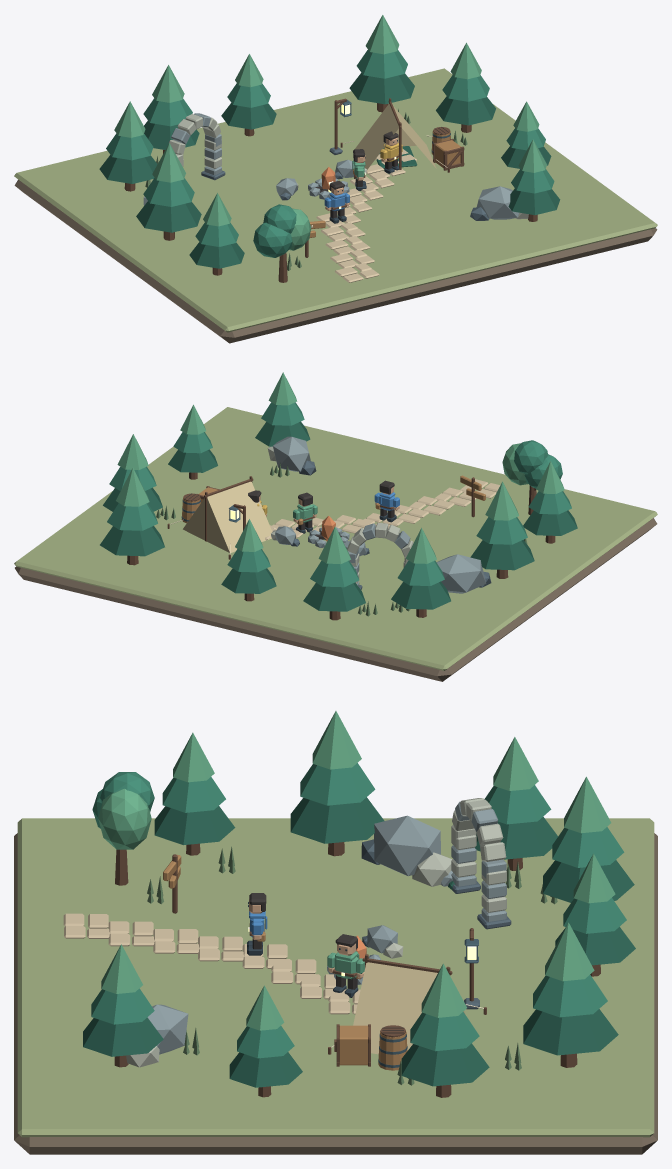
The model's file is forest-camp.glb.
3 renders of one model, top to bottom at view 1: azimuth 30°, elevation 25°; view 2: azimuth 150°, elevation 25°; view 3: azimuth 270°, elevation 25°, orthographic. The views are drawn at different scales.
Parts seen in each view (by area): view 1: terrain-top, terrain-stratum, tent-cloth.001, pine-crown.006, pine-crown.018, pine-crown.021, pine-crown.009, pine-crown.019, pine-crown.007, pine-crown.003, pine-crown.015, pine-crown.027 (+21 smaller); view 2: terrain-top, terrain-stratum, tent-cloth.001, pine-crown.018, rock.009, pine-crown.006, pine-crown.012, pine-crown.009, pine-crown.007, pine-crown.019, pine-crown.015, pine-crown.003 (+22 smaller); view 3: terrain-top, terrain-stratum, tent-cloth.001, pine-crown.018, pine-crown.006, rock.009, pine-crown.021, canopy.004, pine-crown.007, pine-crown.019, pine-crown.003, pine-crown.027 (+26 smaller).
Part boxes in pixels (x1=…): terrain-top: x1=14, y1=68, x2=657, y2=332; terrain-stratum: x1=14, y1=179, x2=657, y2=343; tent-cloth.001: x1=355, y1=104, x2=436, y2=169; pine-crown.006: x1=136, y1=201, x2=201, y2=232; pine-crown.018: x1=349, y1=73, x2=414, y2=104; pine-crown.021: x1=436, y1=96, x2=495, y2=125; pine-crown.009: x1=99, y1=155, x2=157, y2=183; pine-crown.019: x1=356, y1=50, x2=407, y2=78; pine-crown.007: x1=143, y1=178, x2=194, y2=206; pine-crown.003: x1=189, y1=242, x2=244, y2=268; pine-crown.015: x1=221, y1=103, x2=276, y2=129; pine-crown.027: x1=508, y1=188, x2=560, y2=215; terrain-top: x1=14, y1=407, x2=657, y2=670; terrain-stratum: x1=15, y1=518, x2=657, y2=681; tent-cloth.001: x1=183, y1=481, x2=272, y2=552; pine-crown.018: x1=100, y1=526, x2=164, y2=556; rock.009: x1=436, y1=554, x2=486, y2=593; pine-crown.006: x1=470, y1=539, x2=534, y2=570; pine-crown.012: x1=303, y1=582, x2=365, y2=611; pine-crown.009: x1=391, y1=581, x2=450, y2=609; pine-crown.007: x1=476, y1=517, x2=527, y2=544; pine-crown.019: x1=107, y1=503, x2=157, y2=530; pine-crown.015: x1=221, y1=568, x2=276, y2=593; pine-crown.003: x1=523, y1=510, x2=577, y2=535; terrain-top: x1=17, y1=818, x2=654, y2=1137; terrain-stratum: x1=14, y1=833, x2=657, y2=1154; tent-cloth.001: x1=353, y1=962, x2=465, y2=1054; pine-crown.018: x1=523, y1=1009, x2=618, y2=1055; pine-crown.006: x1=290, y1=797, x2=384, y2=843; rock.009: x1=374, y1=815, x2=440, y2=876; pine-crown.021: x1=401, y1=1043, x2=489, y2=1086; canopy.004: x1=98, y1=788, x2=151, y2=849; pine-crown.007: x1=300, y1=763, x2=375, y2=805; pine-crown.019: x1=533, y1=974, x2=607, y2=1017; pine-crown.003: x1=154, y1=806, x2=235, y2=845; pine-crown.027: x1=83, y1=1017, x2=163, y2=1056.
Size of the model in its own units: 21 by 5.28 by 18.
